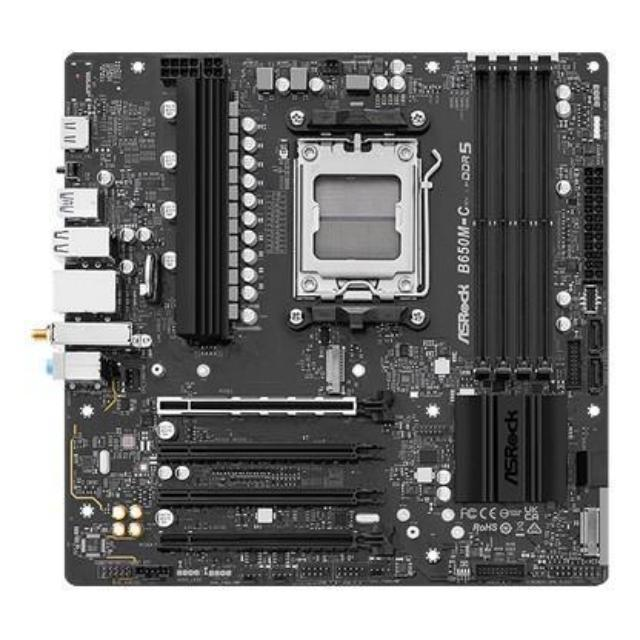Mainboard: (54, 46, 612, 591)
